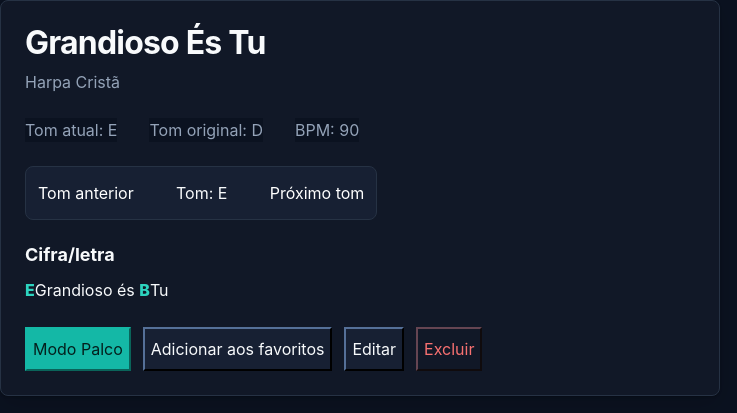
Scenario: SongDetailPage › marks a song as favorite and updates the detail
Click the button "Adicionar aos favoritos".
click(238, 349)  # box [143, 327, 332, 371]
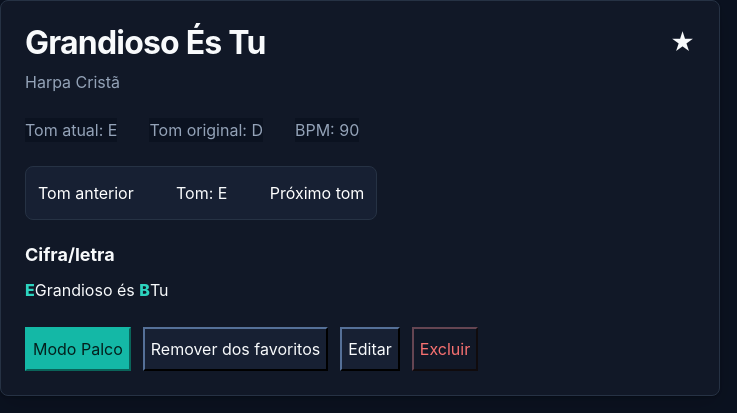
Check: the button "Remover dos favoritos" is shown, box [143, 327, 328, 371]
